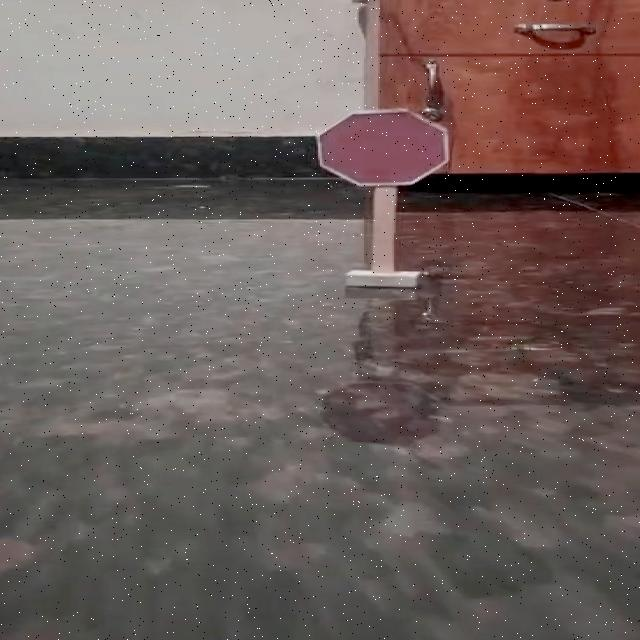Stop: (296, 100, 472, 196)
